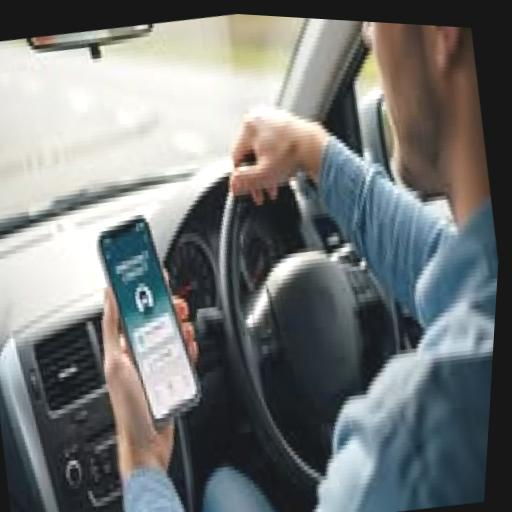Hands-on-the-Wheel: (199, 61, 350, 241)
